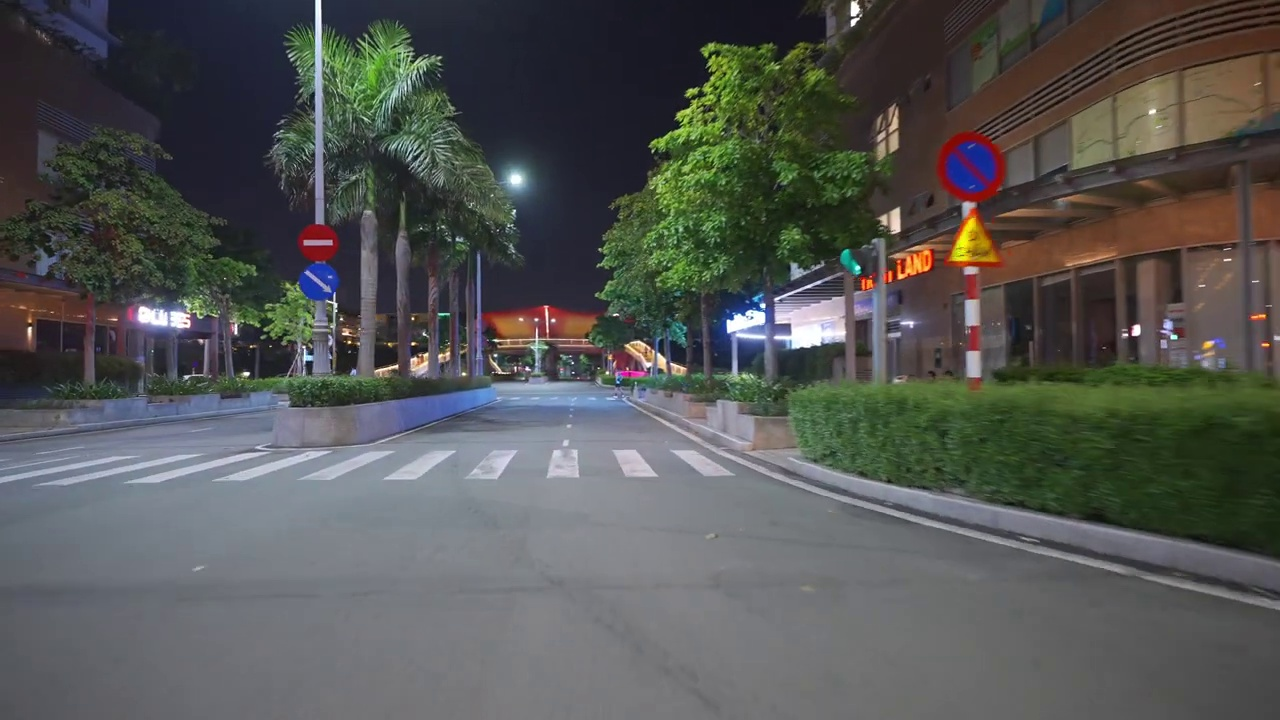cam_do_xe: (936, 130, 1007, 201)
cam_nguoc_chieu: (297, 223, 339, 260)
di_cham: (943, 207, 1006, 268)
huong_phai_di_vong: (298, 262, 339, 301)
